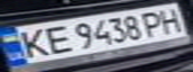3: (109, 15, 130, 44)
4: (90, 16, 115, 47)
8: (121, 11, 145, 42)
9: (69, 20, 97, 51)
E: (36, 22, 75, 55)
H: (154, 6, 187, 34)
K: (9, 25, 51, 60)
P: (136, 9, 169, 37)
